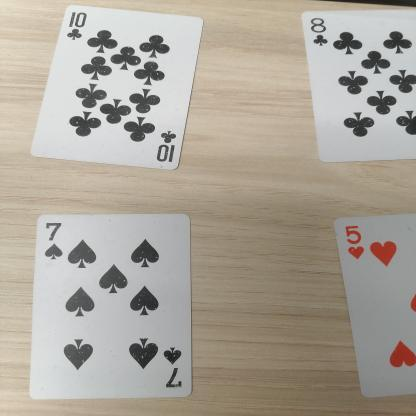10C: (51, 9, 100, 46)
5H: (336, 216, 380, 271)
7S: (35, 216, 70, 268)
8C: (304, 12, 332, 56)
